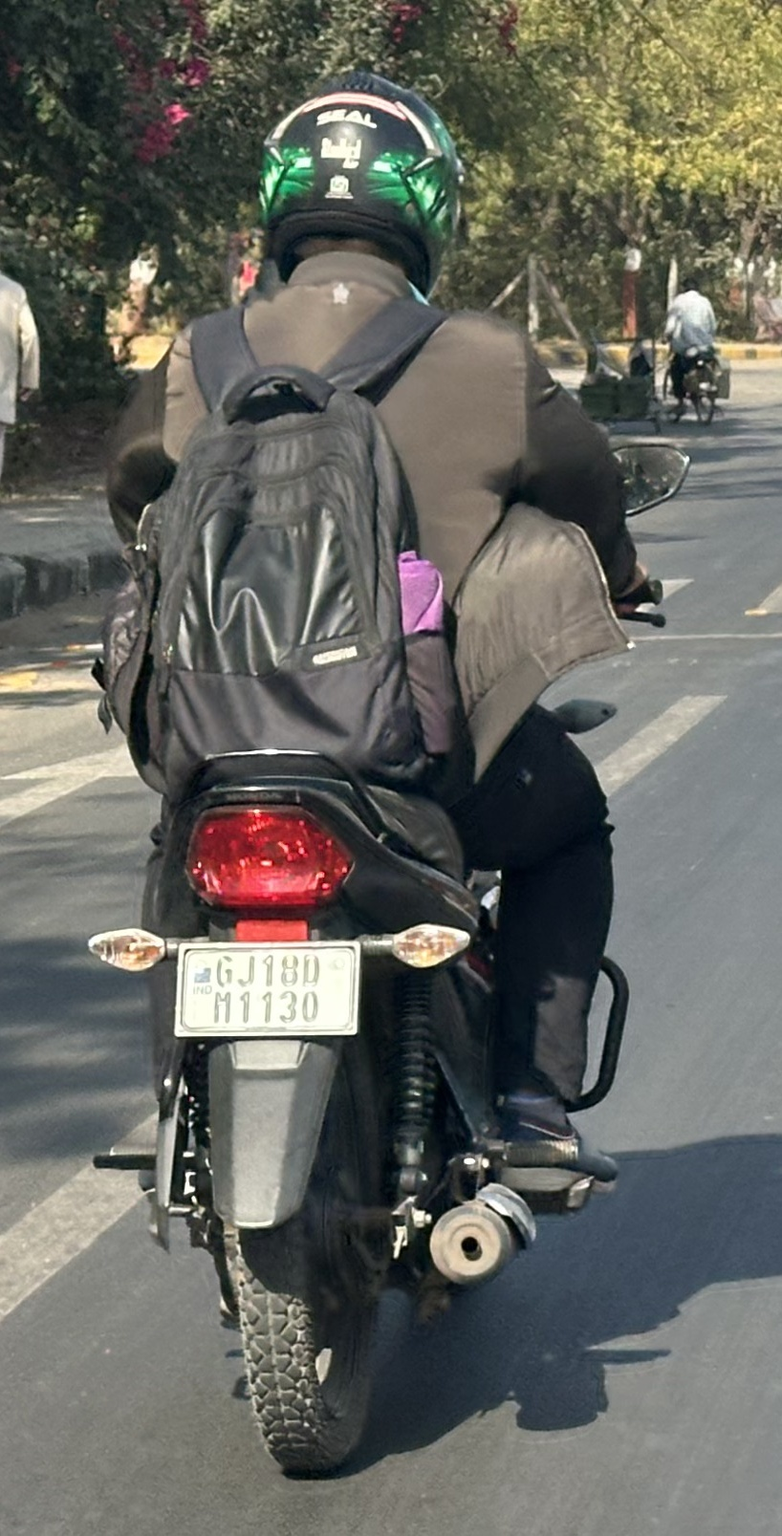BikeWithRider: (67, 58, 701, 1500)
Helmet: (238, 62, 481, 315)
